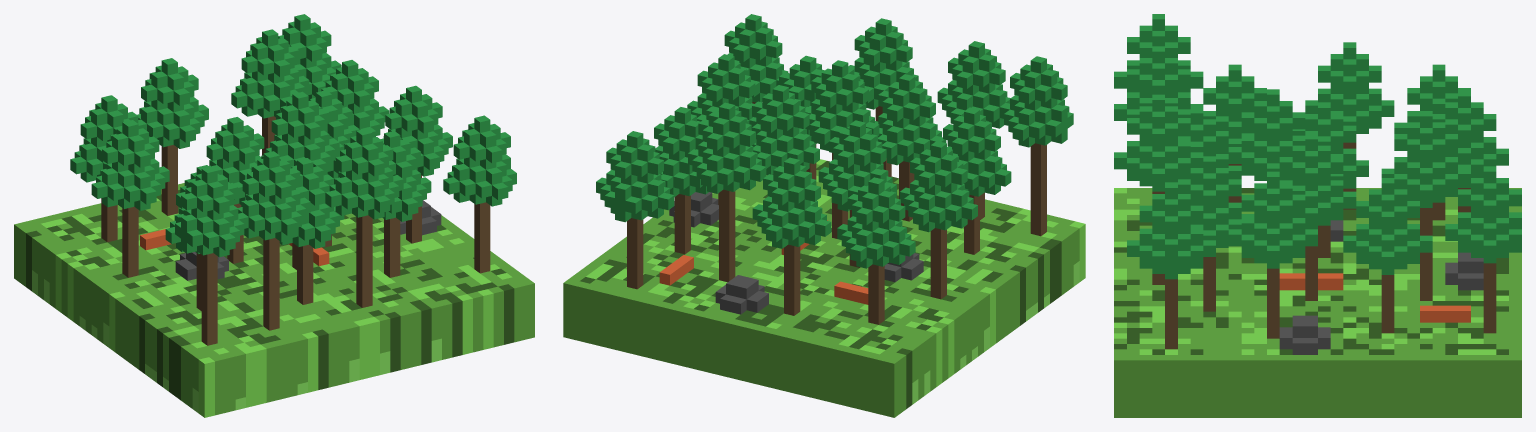
Rendered from Plaines Map-16.obj.
3 renders of one model, left to right at view 1: azimuth 30°, elevation 25°; view 2: azimuth 150°, elevation 25°; view 3: azimuth 270°, elevation 25°, orthographic. The views are drawn at different scales.
Bounding box in the file's own units: 3.2 × 2.1 × 3.2.
1 material, 1 textured.
